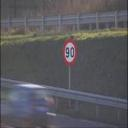speed_limit_90: (63, 38, 77, 66)
